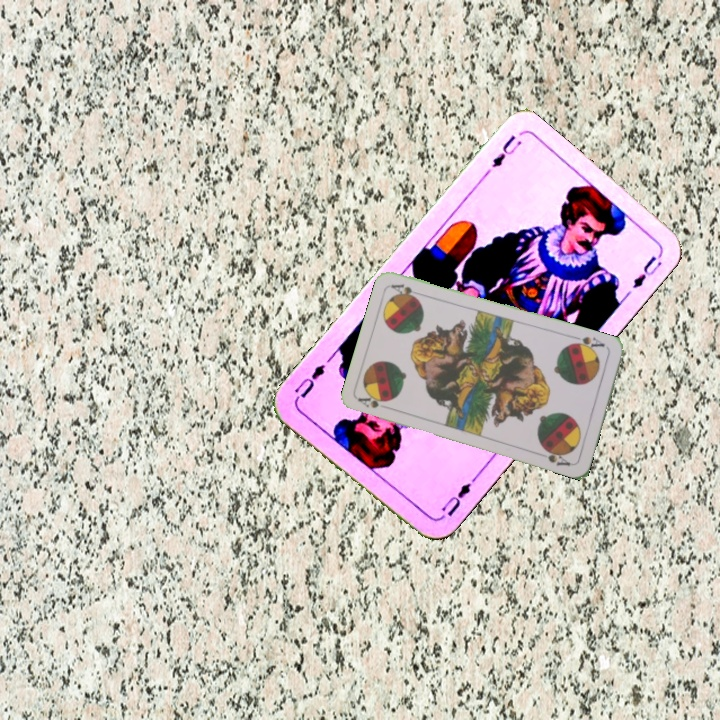EU: (437, 473, 479, 519), (487, 131, 524, 170)
SA: (568, 332, 607, 354), (354, 391, 391, 411)
